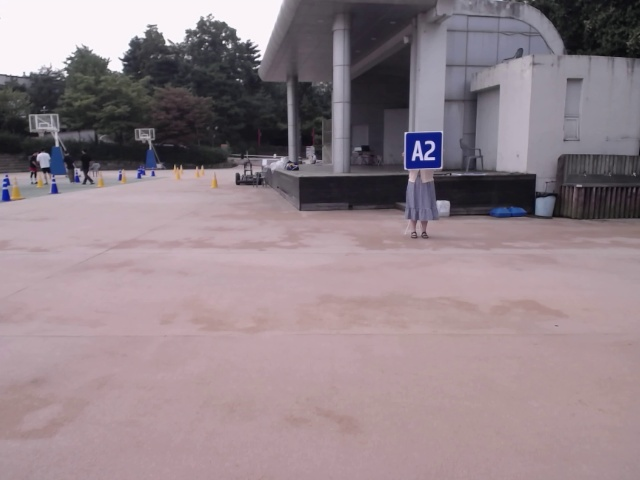delivery_a2: (405, 131, 442, 170)
